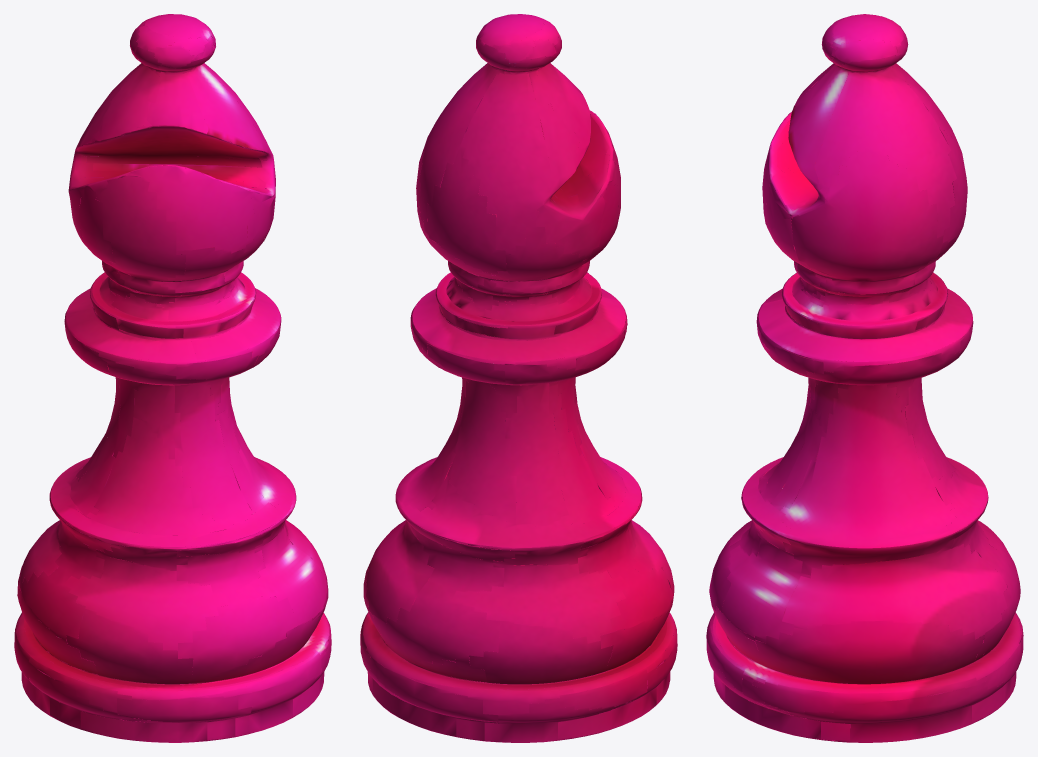
Rendered from bishop.glb.
The picture shows the model from 3 angles, left to right: view 1: azimuth 30°, elevation 25°; view 2: azimuth 150°, elevation 25°; view 3: azimuth 270°, elevation 25°; orthographic projection.
Visible parts, largest first — view 1: Object001.002; view 2: Object001.002; view 3: Object001.002.
Boxes of the visible parts, <box> form: Object001.002: <box>14,14,331,742</box>; Object001.002: <box>360,14,677,742</box>; Object001.002: <box>706,14,1023,742</box>.
Bounding box in the file's own units: 3.77 × 8.62 × 3.76.
Materials: 1 (1 with a texture image).
